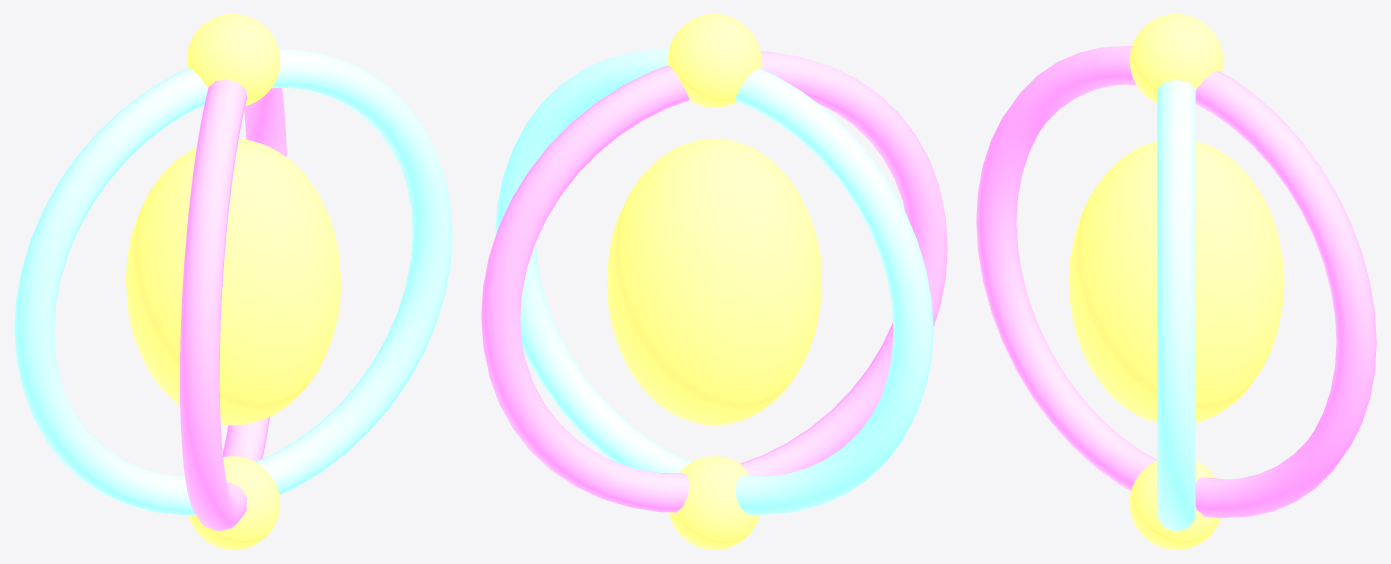
File: power_overdrive.glb
3 views of the same model, side by side, from view 1: azimuth 30°, elevation 25°; view 2: azimuth 150°, elevation 25°; view 3: azimuth 270°, elevation 25° (orthographic).
Visible parts, largest first — view 1: orbit_one, core, orbit_two, pole.001, pole; view 2: core, orbit_two, orbit_one, pole.001, pole; view 3: orbit_two, core, orbit_one, pole.001, pole.
Part boxes in pixels (box(x1,y1,x2,y2)): orbit_one: box(14, 48, 452, 515); core: box(126, 138, 340, 425); orbit_two: box(180, 79, 286, 531); pole.001: box(186, 14, 280, 105); pole: box(188, 456, 280, 549); core: box(607, 138, 821, 425); orbit_two: box(481, 51, 947, 512); orbit_one: box(495, 48, 933, 515); pole.001: box(667, 14, 761, 107); pole: box(668, 456, 759, 549); orbit_two: box(976, 46, 1376, 518); core: box(1068, 141, 1284, 422); orbit_one: box(1157, 79, 1195, 531); pole.001: box(1129, 14, 1223, 103); pole: box(1129, 460, 1220, 549).
Bounding box in the file's own units: 1.07 × 1.24 × 0.8536.
